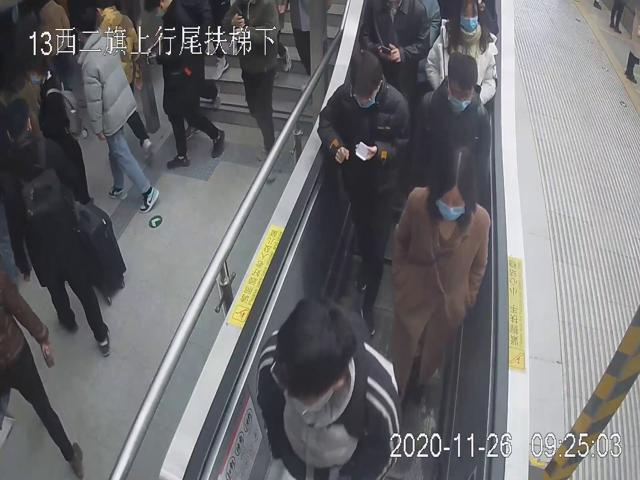person: (387, 135, 490, 430), (316, 48, 413, 337), (415, 53, 491, 206), (424, 0, 499, 105)
